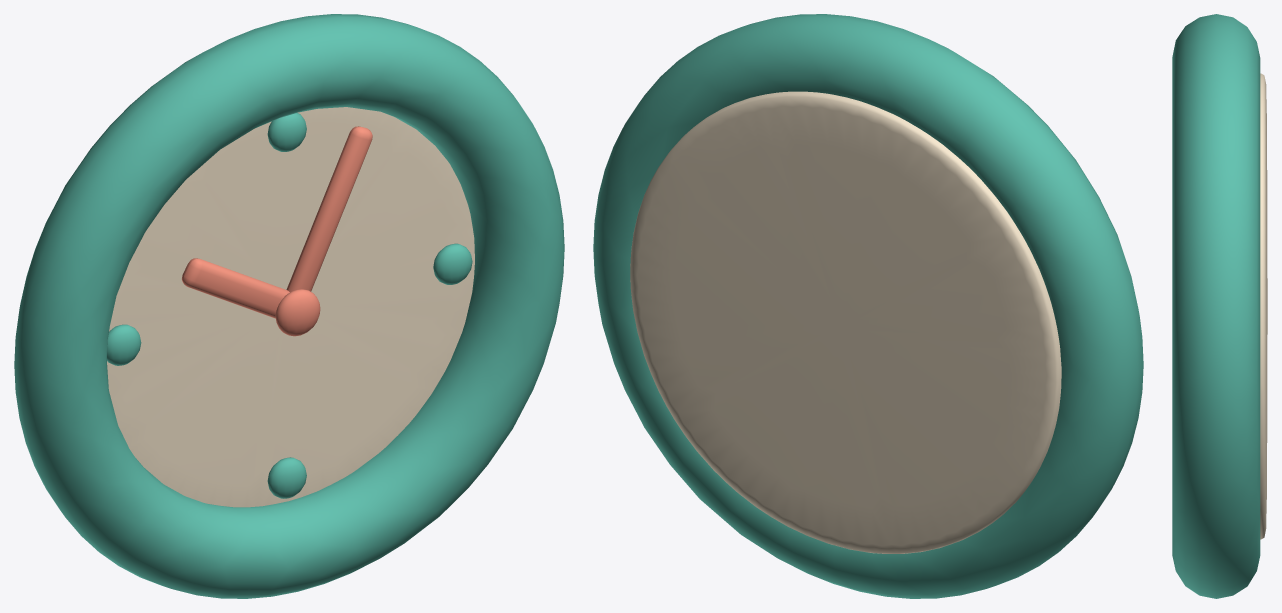
Rendered from clock_a.glb.
The picture shows the model from 3 angles, left to right: view 1: azimuth 30°, elevation 25°; view 2: azimuth 150°, elevation 25°; view 3: azimuth 270°, elevation 25°; orthographic projection. The views are drawn at different scales.
Parts seen in each view (by area): view 1: body; view 2: body; view 3: body.
Boxes of the visible parts, bbox=[...] form: body: bbox=[14, 14, 564, 598]; body: bbox=[593, 14, 1143, 598]; body: bbox=[1172, 14, 1267, 598].
Bounding box in the file's own units: 0.4 × 0.4 × 0.065.
